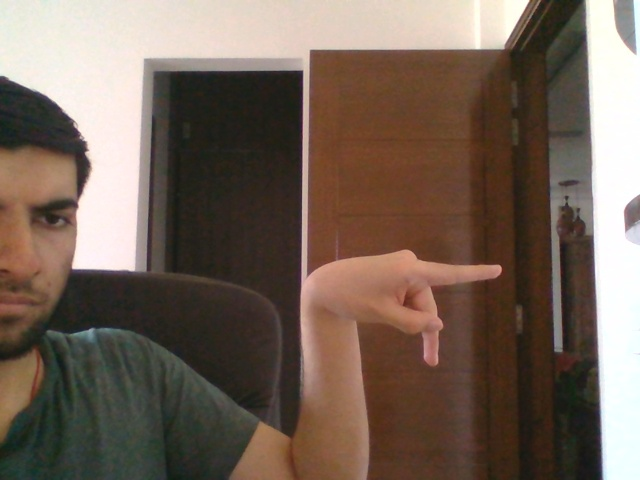LetterP: (299, 249, 504, 367)
